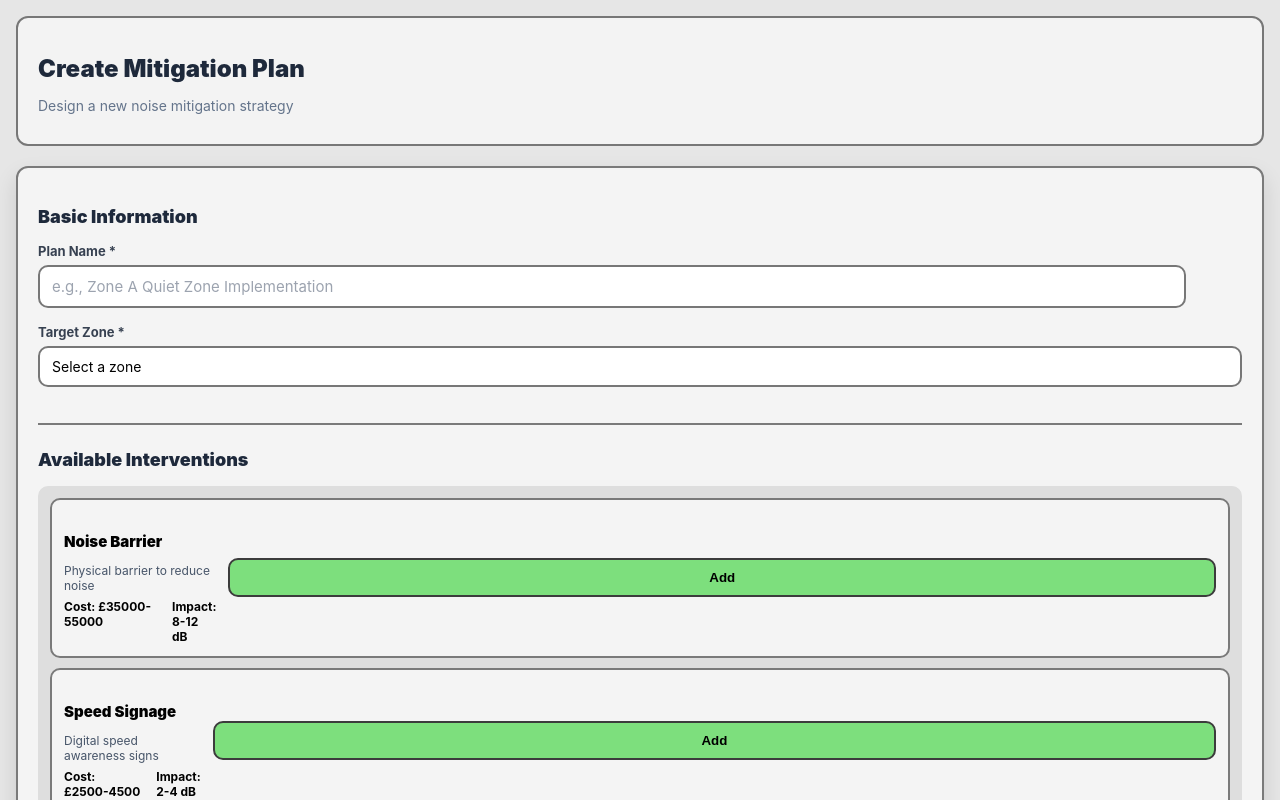
it: PlanBuilder › calculates total impact correctly
Click the button "Add" next to "Physical barrier to reduce noise" at {"x": 722, "y": 578}, box [228,558,1216,597]
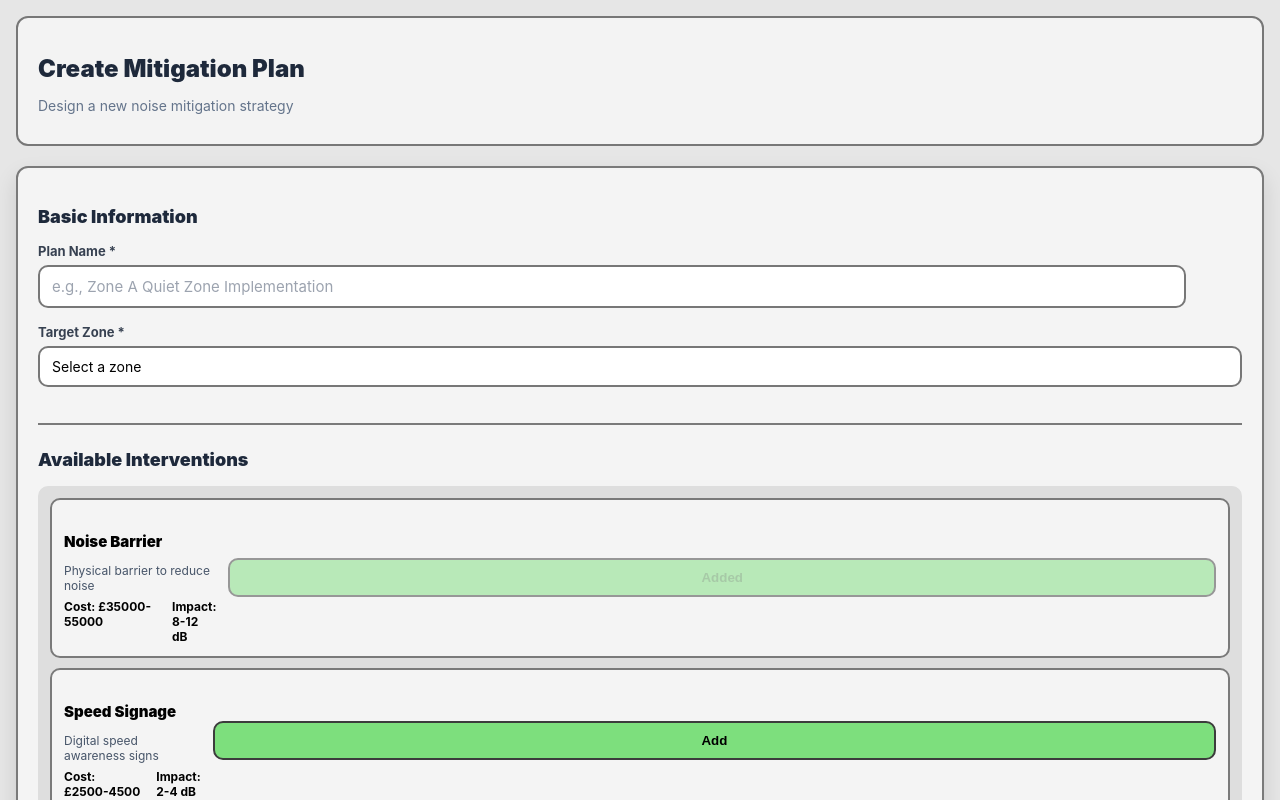
Click the button "Add" at {"x": 714, "y": 740}, box [213,721,1216,760]
(page scrolled)
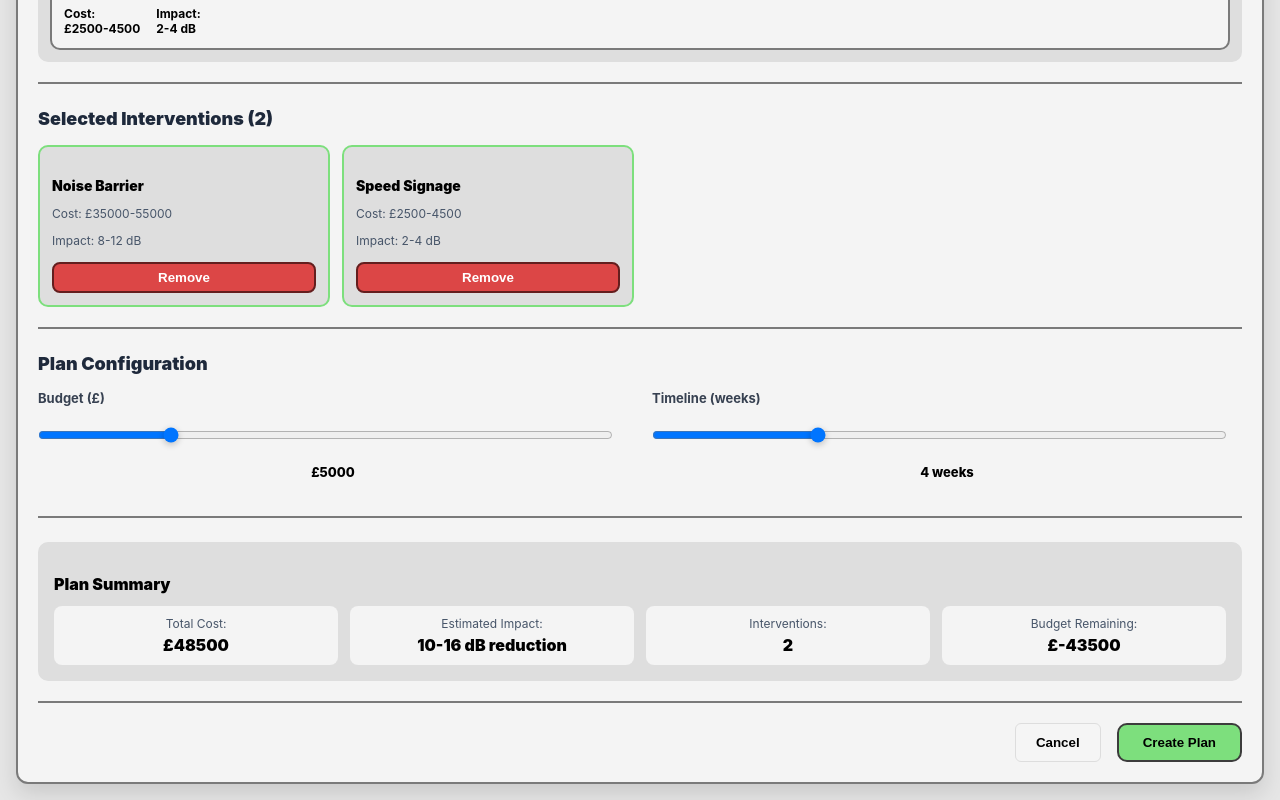
Now the text "10-16 dB reduction" is shown, box [417,635,567,655]
